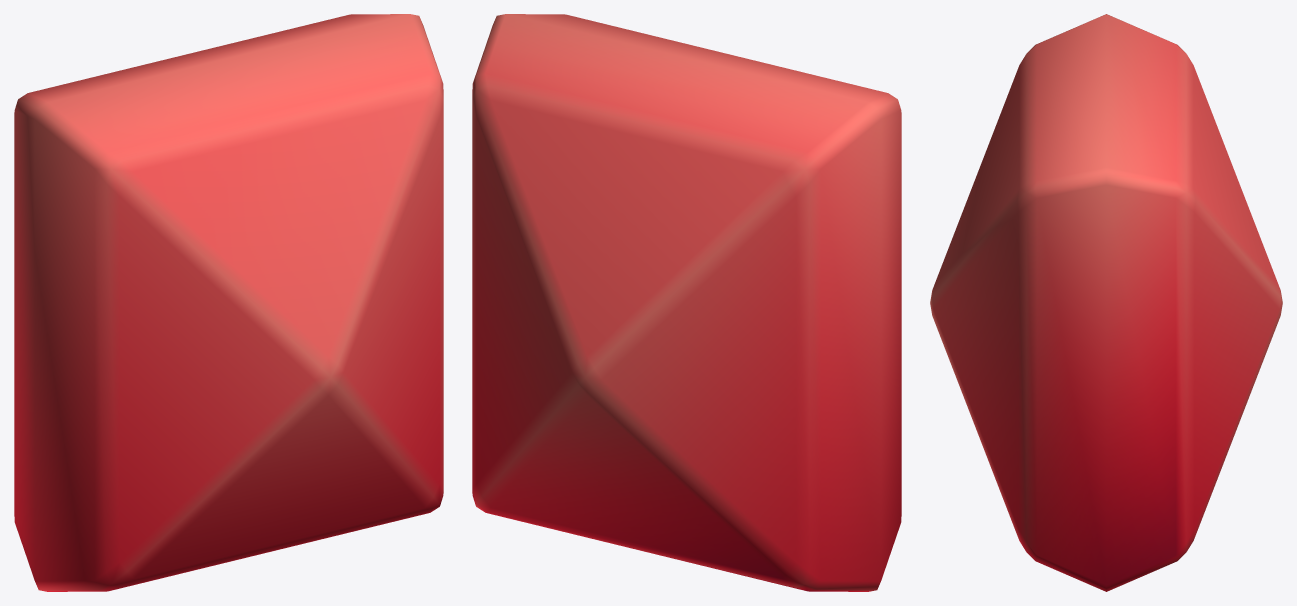
The model's file is SM_gem_003.fbx.
The picture shows the model from 3 angles, left to right: view 1: azimuth 30°, elevation 25°; view 2: azimuth 150°, elevation 25°; view 3: azimuth 270°, elevation 25°; orthographic projection. The views are drawn at different scales.
Visible parts, largest first — view 1: SM_gem_003; view 2: SM_gem_003; view 3: SM_gem_003.
Part boxes in pixels (<box>): SM_gem_003: <box>14,14,443,591</box>; SM_gem_003: <box>472,14,901,591</box>; SM_gem_003: <box>930,14,1282,591</box>.
Bounding box in the file's own units: 32.19 × 38.79 × 29.23.
